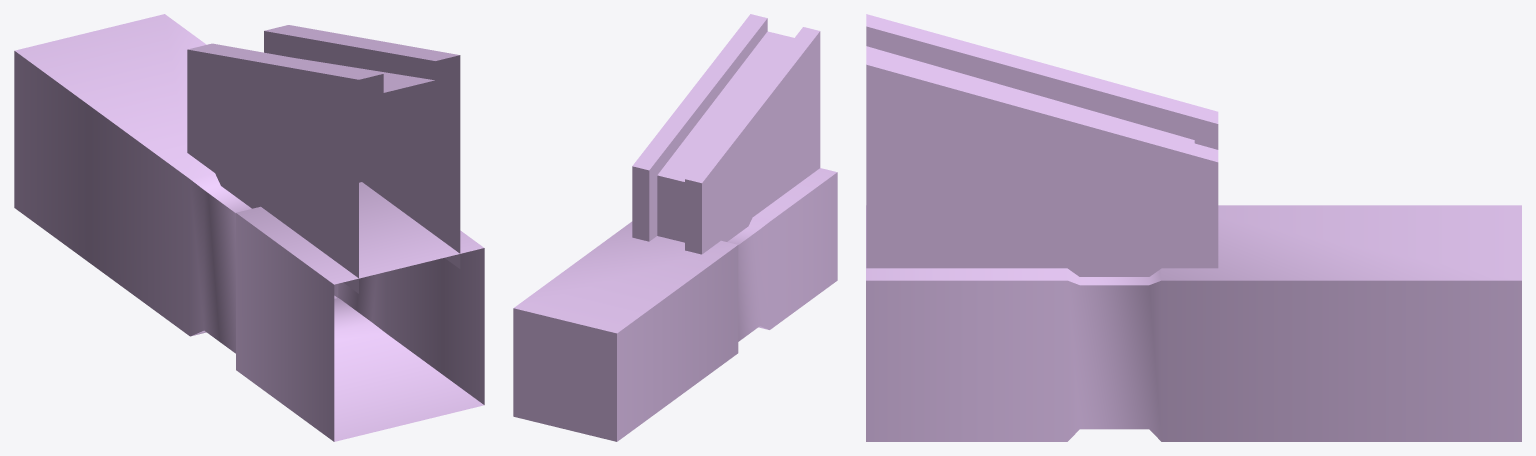
3 renders of one model, left to right at view 1: azimuth 30°, elevation 25°; view 2: azimuth 150°, elevation 25°; view 3: azimuth 270°, elevation 25°, orthographic. The views are drawn at different scales.
Parts seen in each view (by area): view 1: Object24; view 2: Object24; view 3: Object24.
Boxes of the visible parts, x1,y1,x2,y2 form: Object24: [14, 14, 484, 441]; Object24: [513, 14, 837, 441]; Object24: [866, 14, 1521, 441].
Size of the model in its own units: 16301 by 36891 by 60042.
